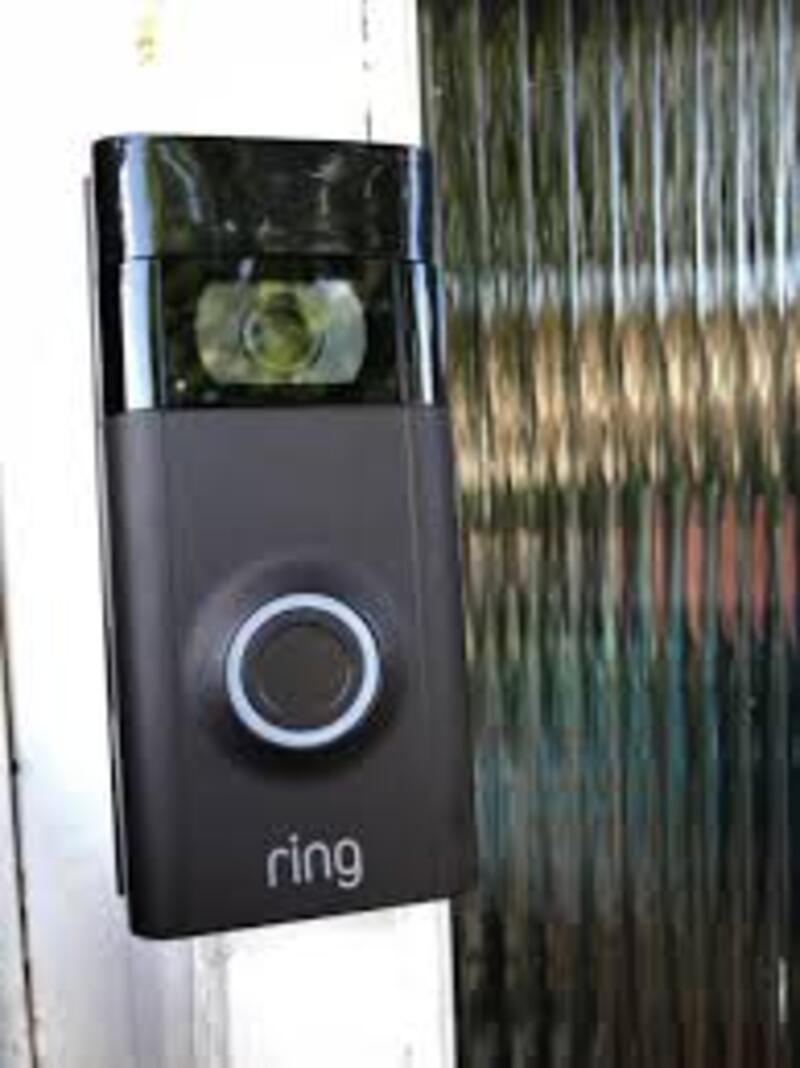doorbell: (93, 138, 490, 962)
